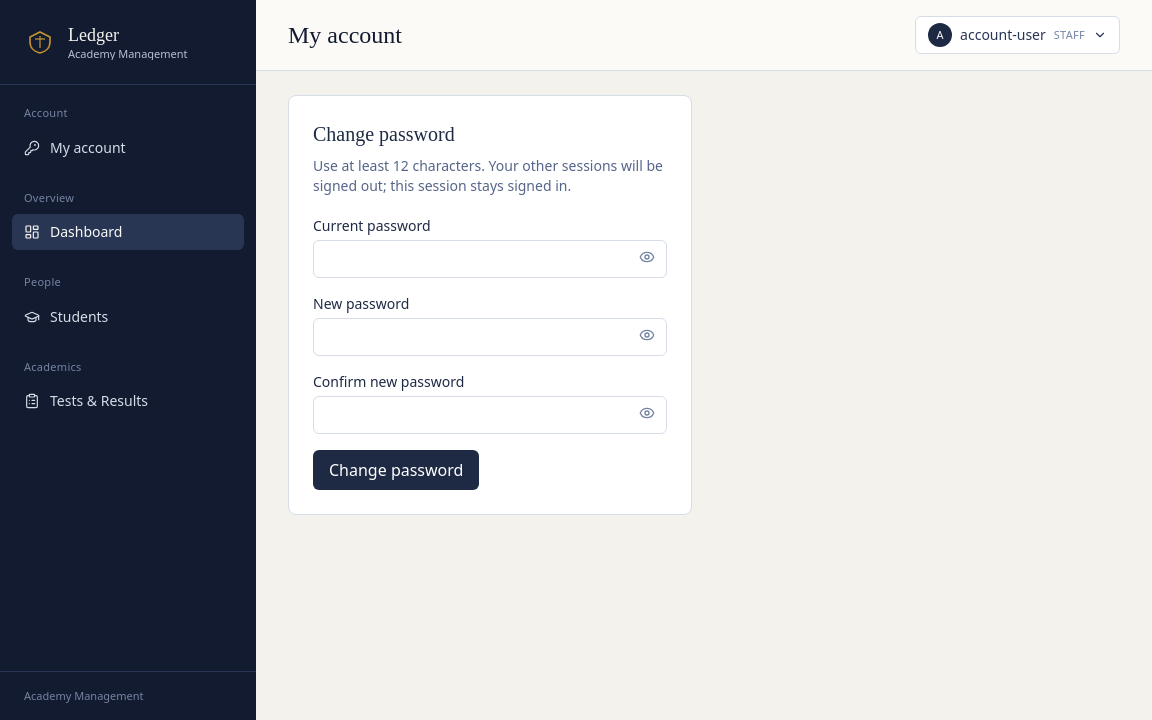
mismatch is explained without sending credentials
Type "OldPassword123!" into the password field labelled "Current password" at (490, 259), box [313, 240, 667, 278]
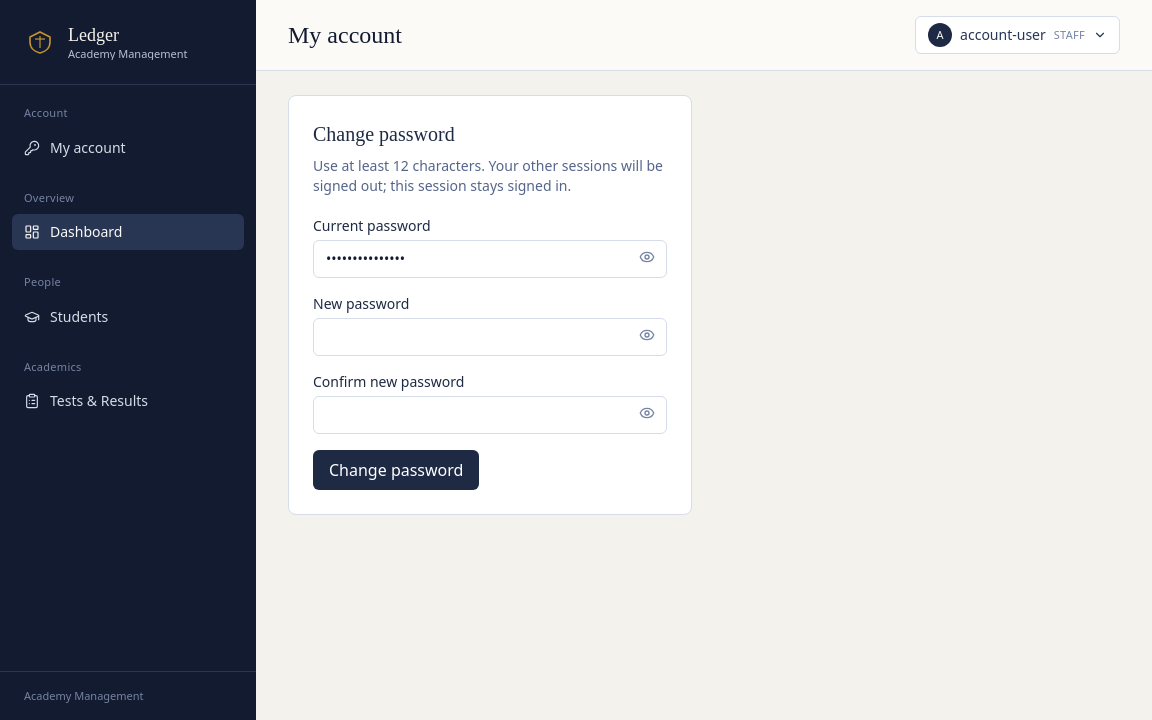
Type "NewPassword456!" into the password field labelled "New password" at (490, 337), box [313, 318, 667, 356]
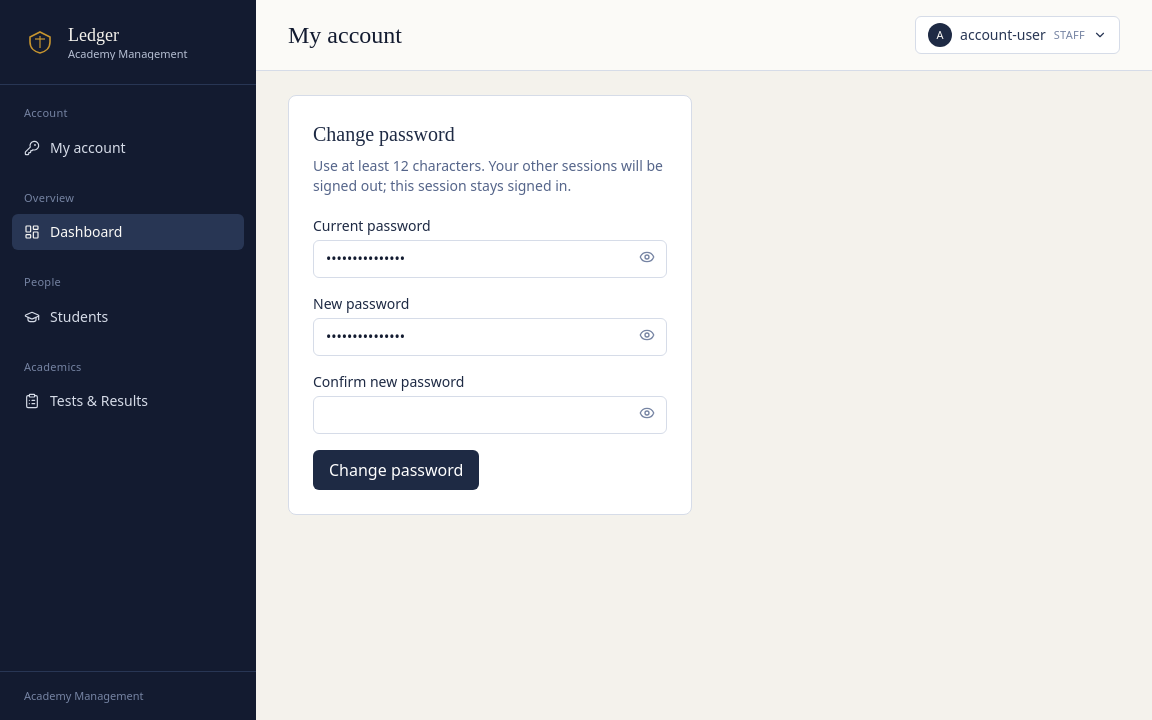
Type "Mismatched123!" into the password field labelled "Confirm new password" at (490, 415), box [313, 396, 667, 434]
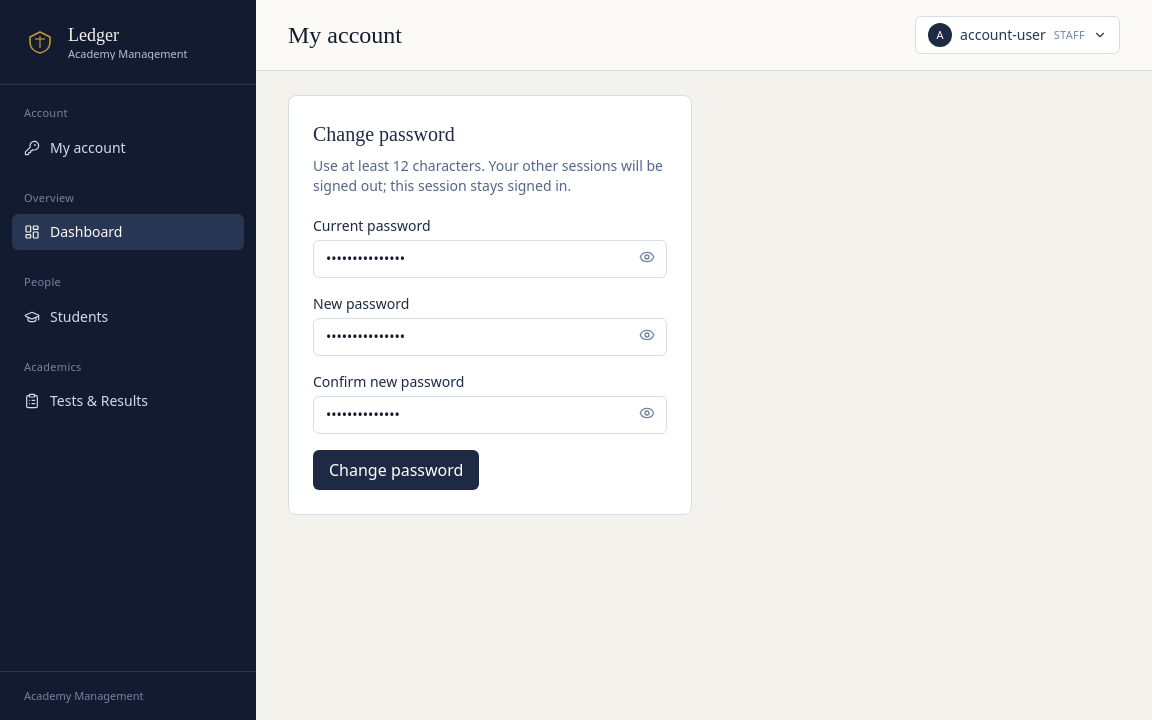
Click the button "Change password" at (396, 470), box [313, 450, 479, 490]
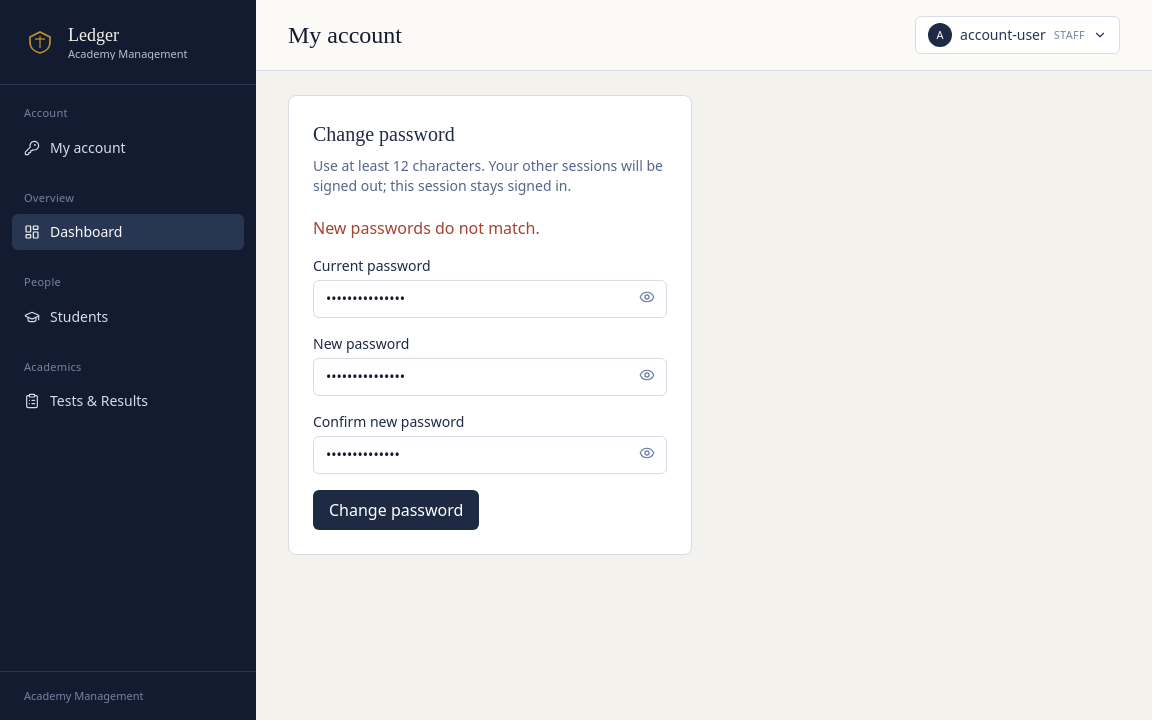
expect the message shows "do not match": met, box [313, 217, 540, 239]
